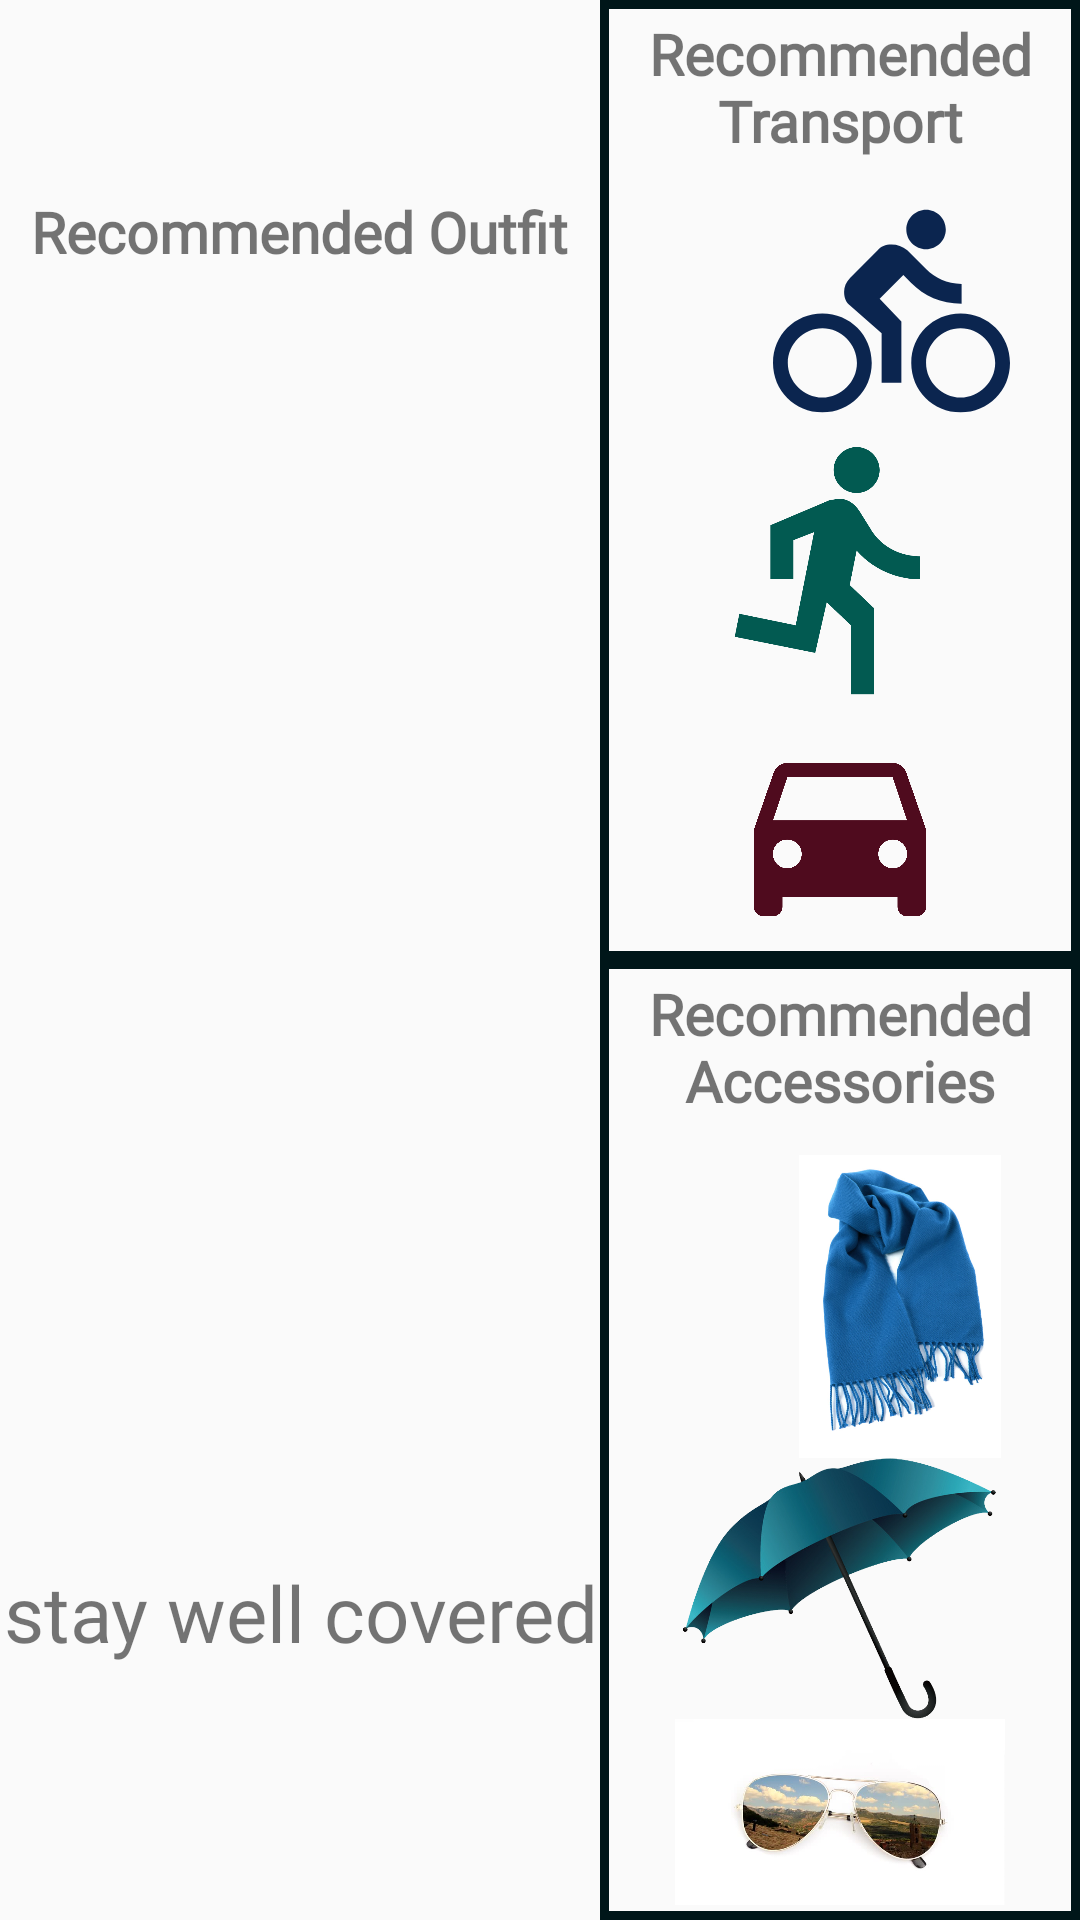

Screen size 1080×1920. Icon name, then its center in pixels as (x,y):
bluescarf: (903,1300)
blueumbrella: (839,1588)
directions bike: (891,311)
directions car: (840,839)
directions run: (827,571)
glasses: (840,1821)
